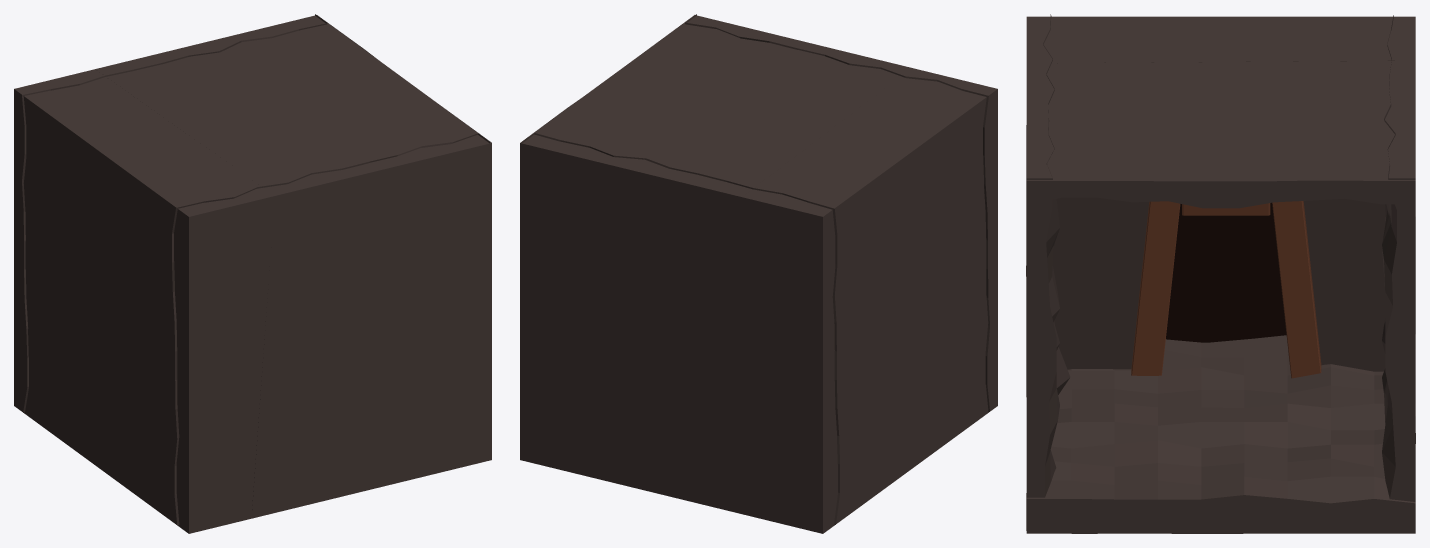
The model's file is cave_floor.glb.
3 renders of one model, left to right at view 1: azimuth 30°, elevation 25°; view 2: azimuth 150°, elevation 25°; view 3: azimuth 270°, elevation 25°, orthographic. The views are drawn at different scales.
Visible parts, largest first — view 1: Room, Plane.001, Plane.002; view 2: Room, Plane.002, Plane.001; view 3: Room, Background, Plane.002, Plane.001, Plane, Log2, Log1, Log3.
Boxes of the visible parts, box(x1,y1,x2,y2) form: Room: box(14, 15, 491, 533); Plane.001: box(172, 133, 489, 525); Plane.002: box(22, 14, 327, 412); Room: box(520, 15, 997, 533); Plane.002: box(522, 133, 839, 524); Plane.001: box(685, 14, 989, 411); Room: box(1026, 16, 1415, 533); Background: box(1166, 202, 1415, 342); Plane.002: box(1382, 15, 1415, 502); Plane.001: box(1026, 14, 1070, 530); Plane: box(1026, 180, 1415, 208); Log2: box(1272, 201, 1321, 378); Log1: box(1131, 201, 1180, 375); Log3: box(1182, 203, 1270, 215).
Bounding box in the file's own units: 10.07 × 10.05 × 10.02.
